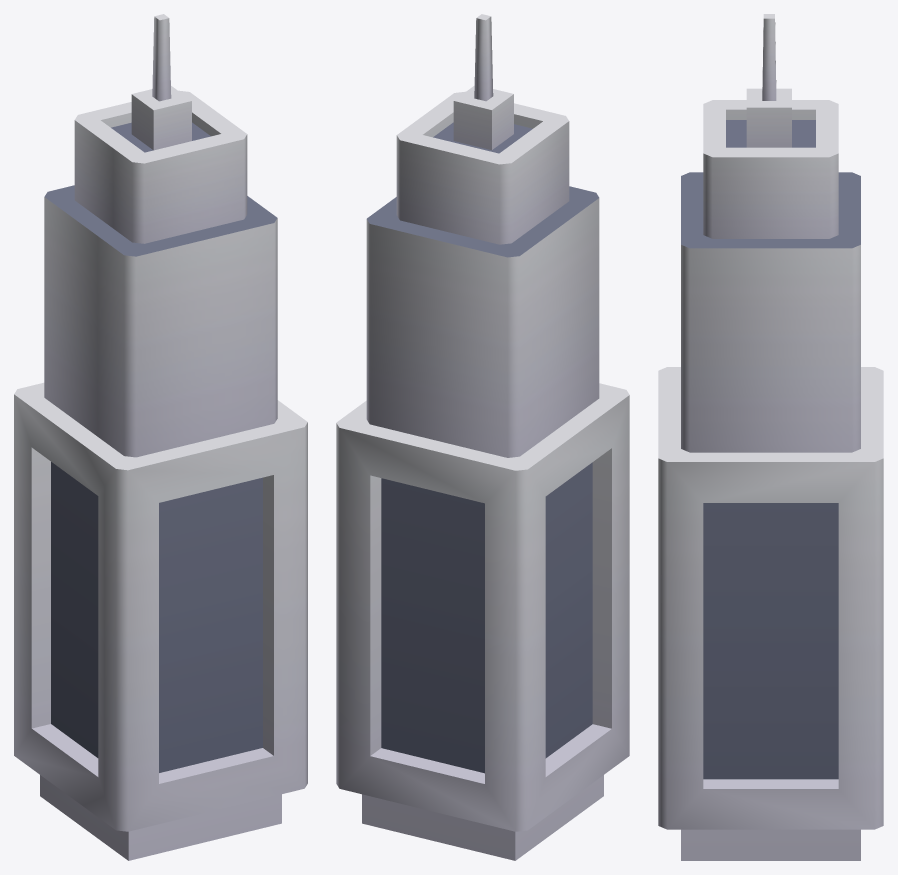
The model's file is low-detail-building-m.glb.
The picture shows the model from 3 angles, left to right: view 1: azimuth 30°, elevation 25°; view 2: azimuth 150°, elevation 25°; view 3: azimuth 270°, elevation 25°; orthographic projection.
Parts seen in each view (by area): view 1: low-detail-building-m; view 2: low-detail-building-m; view 3: low-detail-building-m.
Part boxes in pixels (x1,y1,x2,y2): low-detail-building-m: (14,14,307,860); low-detail-building-m: (336,14,629,860); low-detail-building-m: (658,14,883,860).
Size of the model in its own units: 0.5001 by 1.98 by 0.5001.
Materials: 1 (1 with a texture image).
